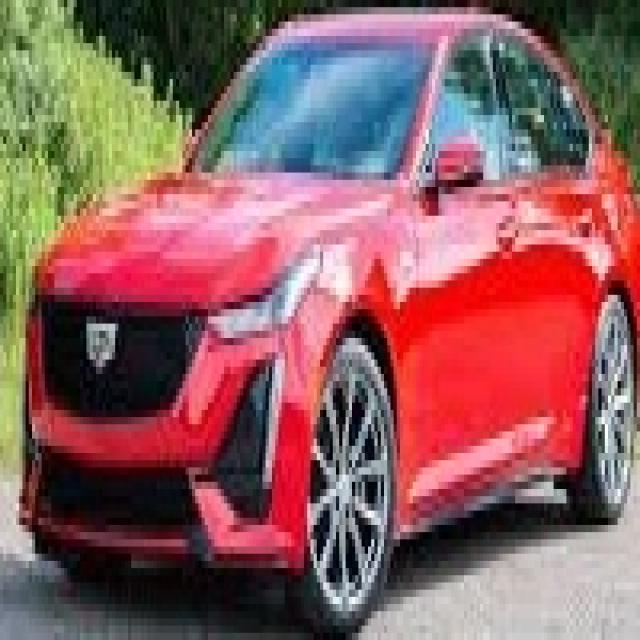red: (36, 16, 640, 575)
